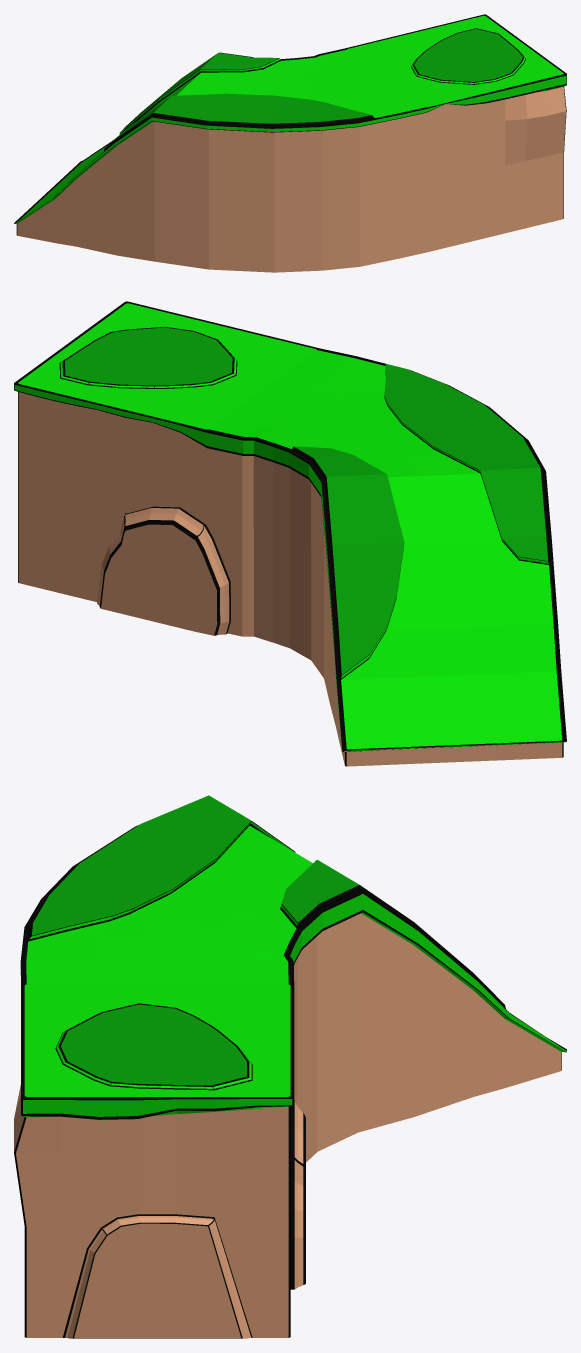
Rendered from CardboardPlatform11.fbx.
The picture shows the model from 3 angles, top to bottom: view 1: azimuth 30°, elevation 25°; view 2: azimuth 150°, elevation 25°; view 3: azimuth 270°, elevation 25°; orthographic projection. The views are drawn at different scales.
Visible parts, largest first — view 1: Cube.057; view 2: Cube.057; view 3: Cube.057.
Boxes of the visible parts, bbox=[...] form: Cube.057: bbox=[14, 14, 566, 272]; Cube.057: bbox=[14, 301, 566, 766]; Cube.057: bbox=[14, 795, 566, 1338].
Size of the model in its own units: 2037 by 676 by 1335.
